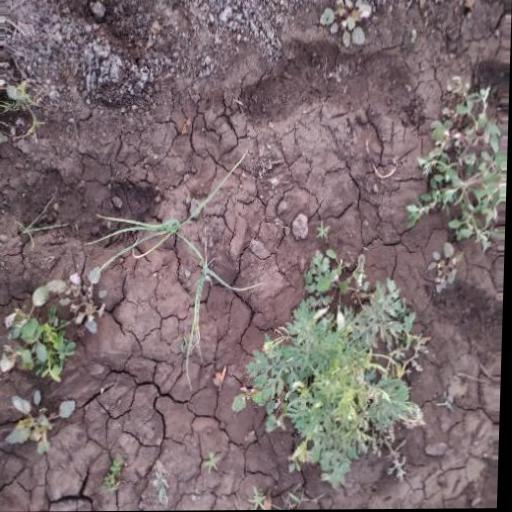weed: (252, 241, 435, 484), (4, 265, 120, 486), (400, 65, 510, 259)
